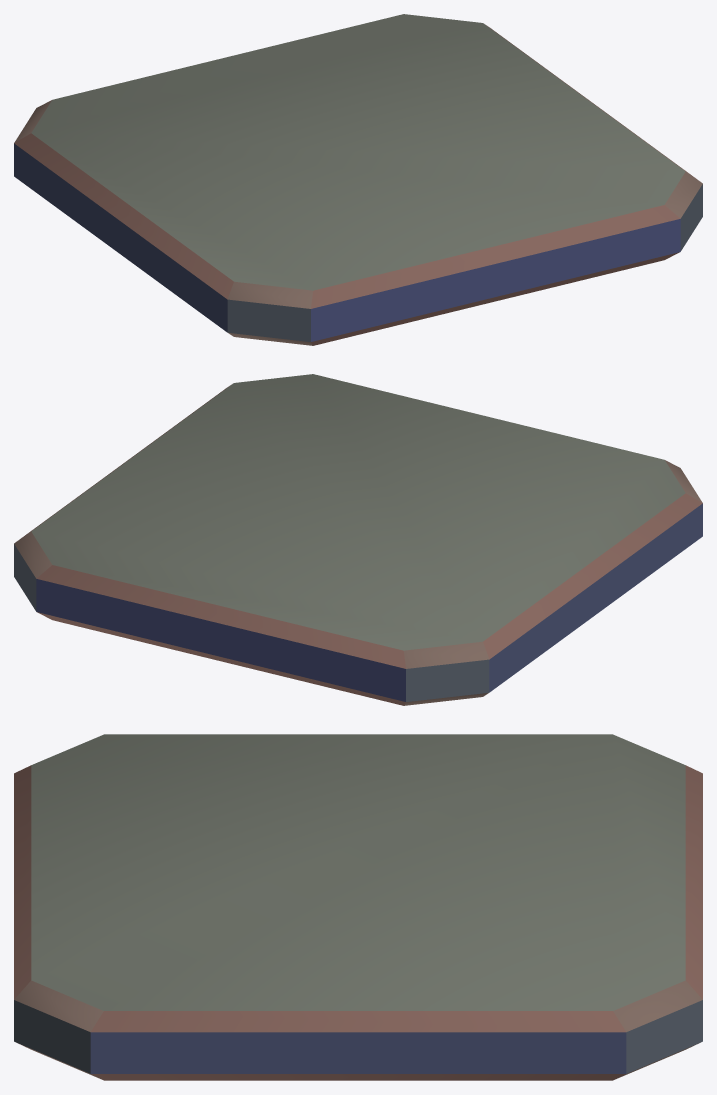
File: Floor_hole_beveled_cover_visible.fbx
3 renders of one model, top to bottom at view 1: azimuth 30°, elevation 25°; view 2: azimuth 150°, elevation 25°; view 3: azimuth 270°, elevation 25°, orthographic. The views are drawn at different scales.
Parts seen in each view (by area): view 1: Cube; view 2: Cube; view 3: Cube.
Boxes of the visible parts, left/top/right/bottom form: Cube: left=14, top=14, right=702, bottom=345; Cube: left=14, top=374, right=702, bottom=705; Cube: left=14, top=734, right=702, bottom=1080.
Size of the model in its own units: 90 by 10 by 90.
